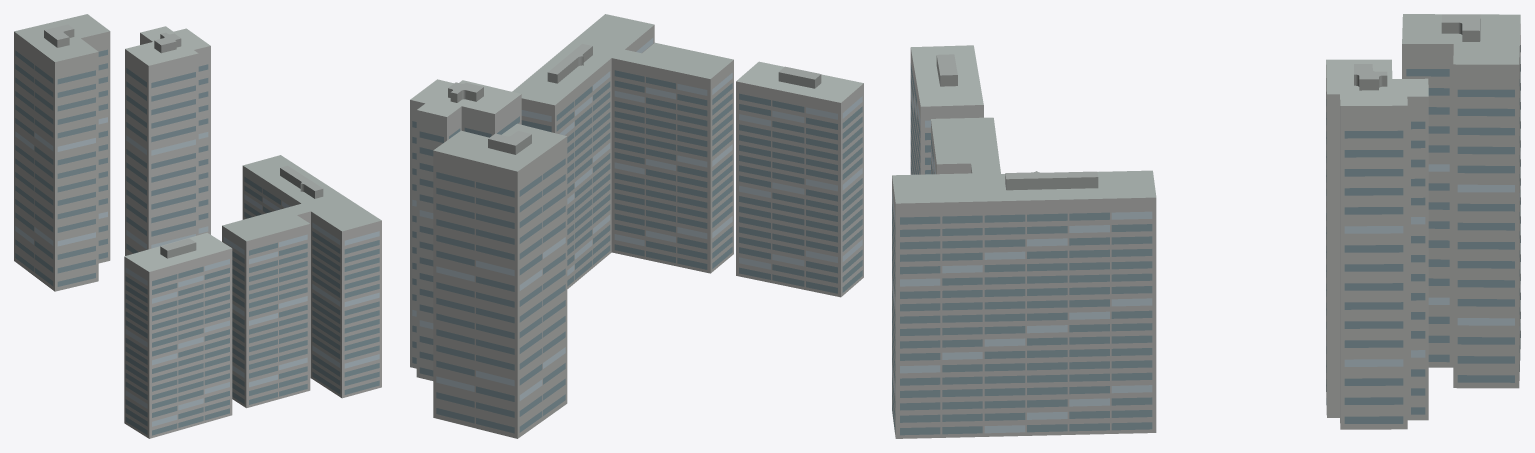
Rendered from apt-a13204501.glb.
3 renders of one model, left to right at view 1: azimuth 30°, elevation 25°; view 2: azimuth 150°, elevation 25°; view 3: azimuth 270°, elevation 25°, orthographic. The views are drawn at different scales.
Visible parts, largest first — view 1: apt-a13204501; view 2: apt-a13204501; view 3: apt-a13204501.
Part boxes in pixels (x1=…): apt-a13204501: x1=14, y1=14, x2=381, y2=438; apt-a13204501: x1=410, y1=14, x2=863, y2=438; apt-a13204501: x1=892, y1=14, x2=1520, y2=438.
Bounding box in the file's own units: 73.02 × 72 × 123.
